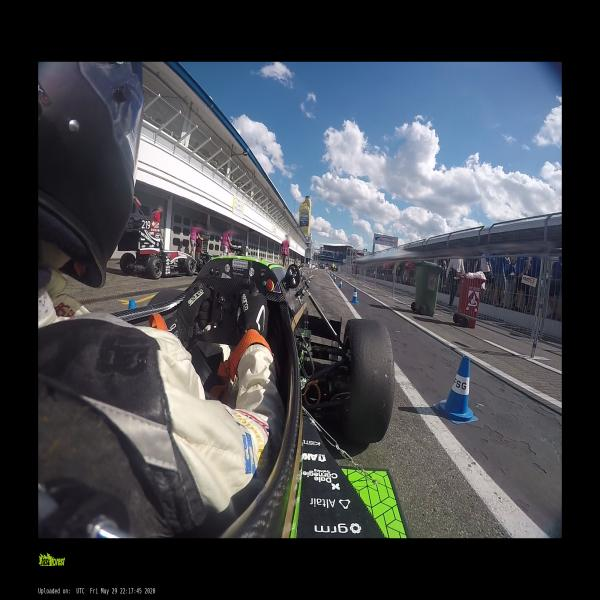blue_cone: (440, 357, 476, 421), (350, 287, 358, 304), (128, 300, 136, 309), (338, 278, 343, 288), (334, 276, 337, 281), (307, 270, 309, 274)
